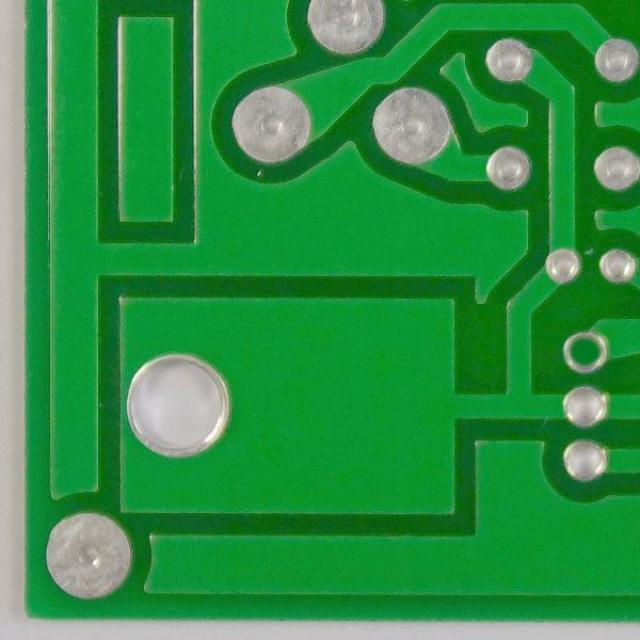Missing_Hole: (555, 326, 612, 376)
